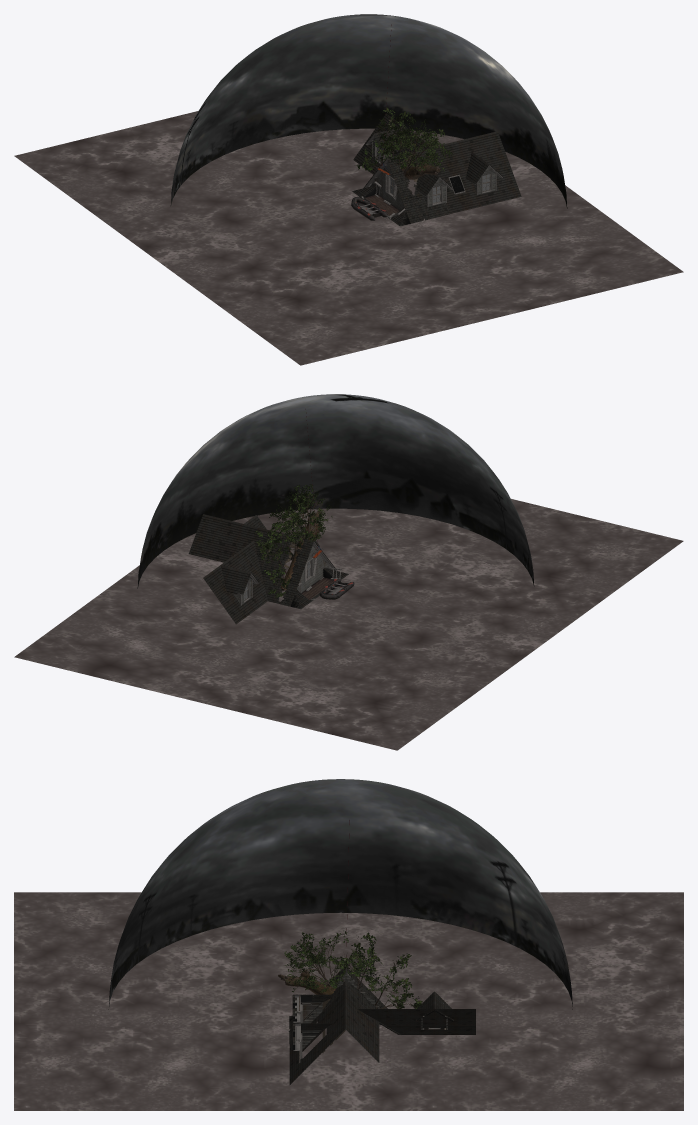
Rendered from flood.glb.
3 views of the same model, one above another, from view 1: azimuth 30°, elevation 25°; view 2: azimuth 150°, elevation 25°; view 3: azimuth 270°, elevation 25° (orthographic). The views are drawn at different scales.
Parts seen in each view (by area): view 1: flood_AR_v006, Sphere_003; view 2: flood_AR_v006, Sphere_003; view 3: flood_AR_v006, Sphere_003.
Boxes of the visible parts, left/top/right/bottom form: flood_AR_v006: left=14, top=107, right=683, bottom=365; Sphere_003: left=170, top=14, right=567, bottom=208; flood_AR_v006: left=14, top=484, right=683, bottom=750; Sphere_003: left=137, top=394, right=534, bottom=588; flood_AR_v006: left=14, top=892, right=683, bottom=1110; Sphere_003: left=108, top=779, right=572, bottom=1009.
Bounding box in the file's own units: 41.79 × 18.88 × 54.1.
Materials: 6 (6 with a texture image).
